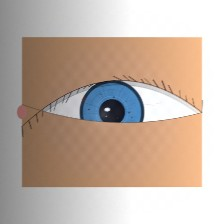hemorrhage_spot: (72, 76, 146, 135)
